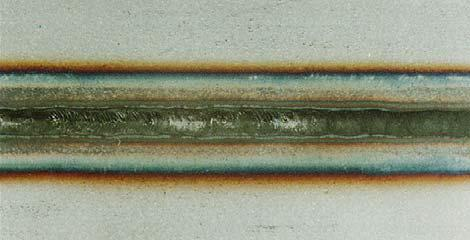soldas: (0, 58, 470, 186)
